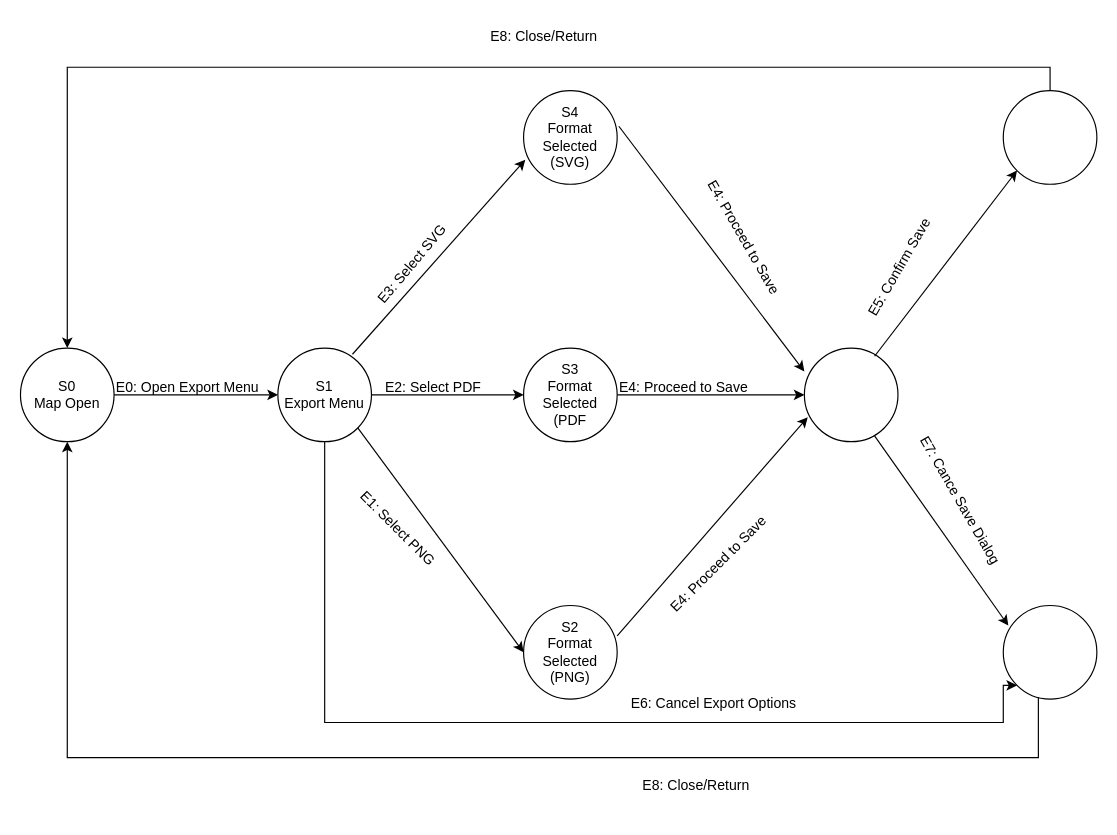
The diagram is 1117 pixels wide and 835 high, and some of its shapes have lost their labels. Each missing label, with the box of its shape:
S5 Save DialogActive: (803, 347, 898, 442)
S6 Export Successful: (1002, 90, 1097, 184)
S7 Export Cancelled/ Closed: (1002, 604, 1097, 699)
